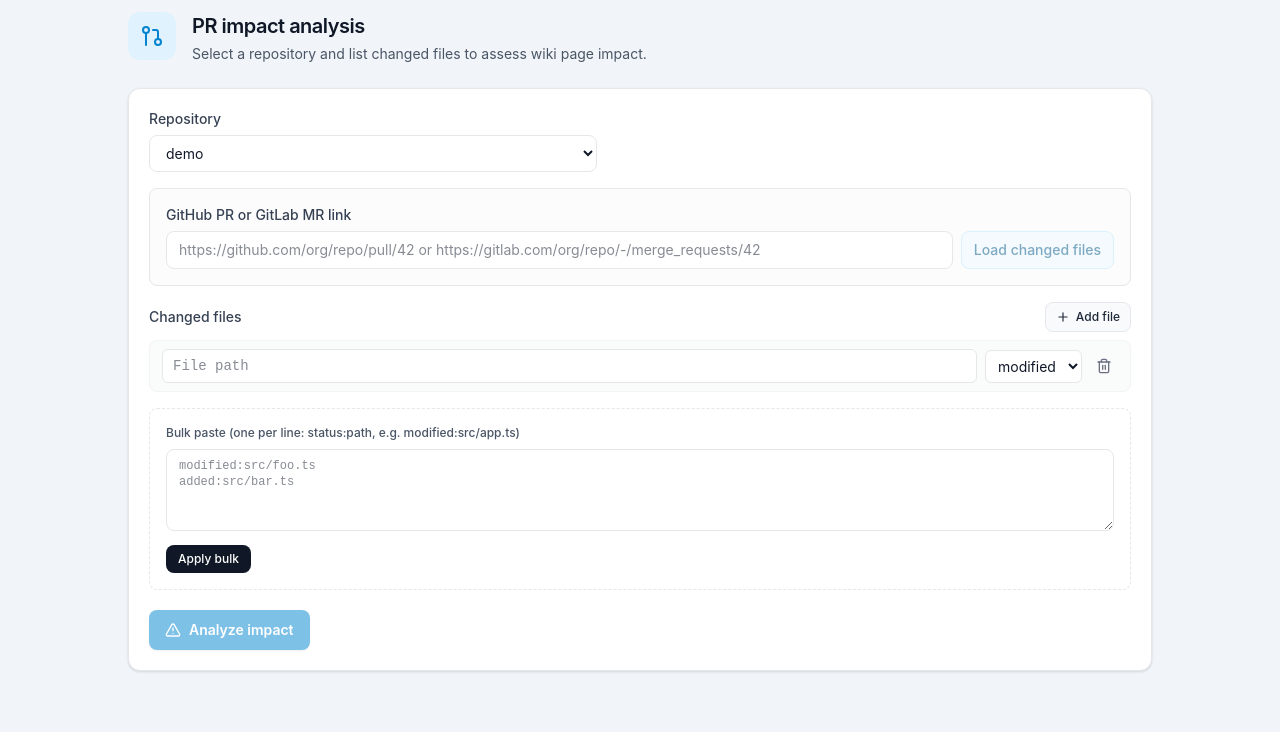
Test: PrImpactPage › adds a changed file row
Type "src/app.ts" into the field with placeholder "File path". click: (570, 366)
box: [162,349,977,383]
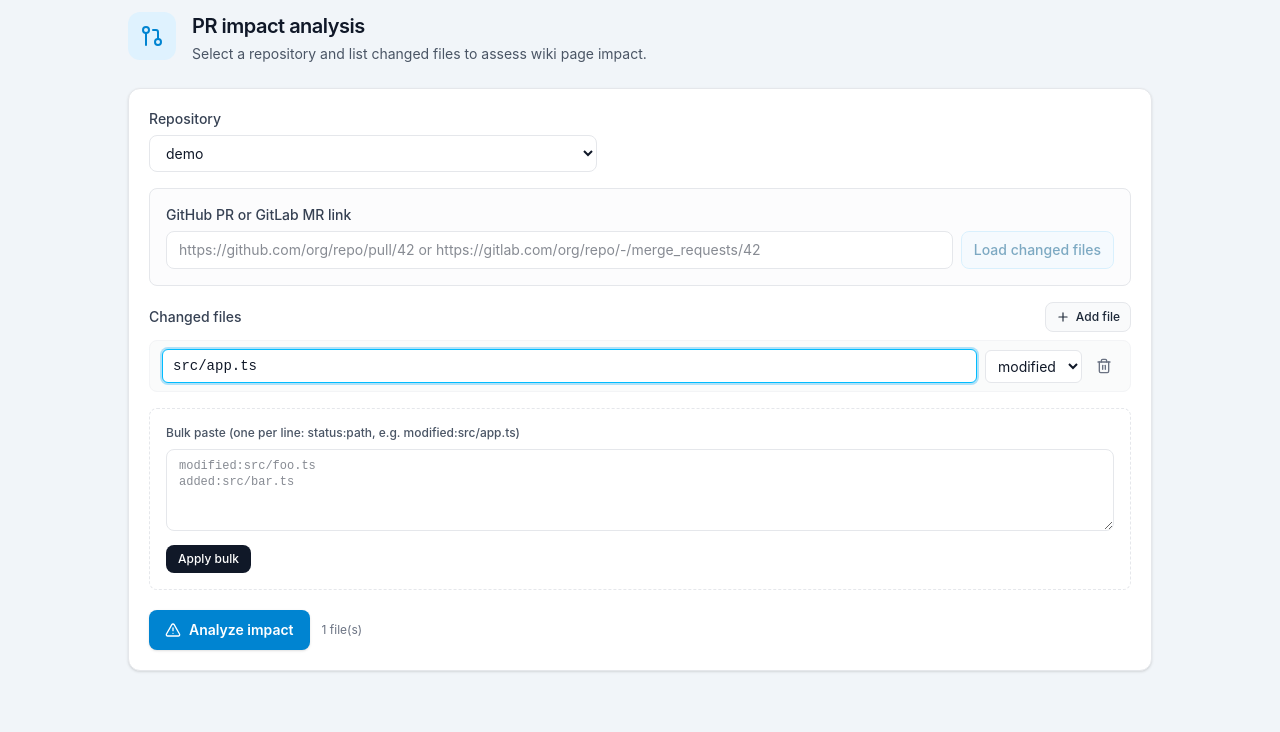
Click the button "Add file". click: (1088, 317)
box: [1045,302,1131,332]
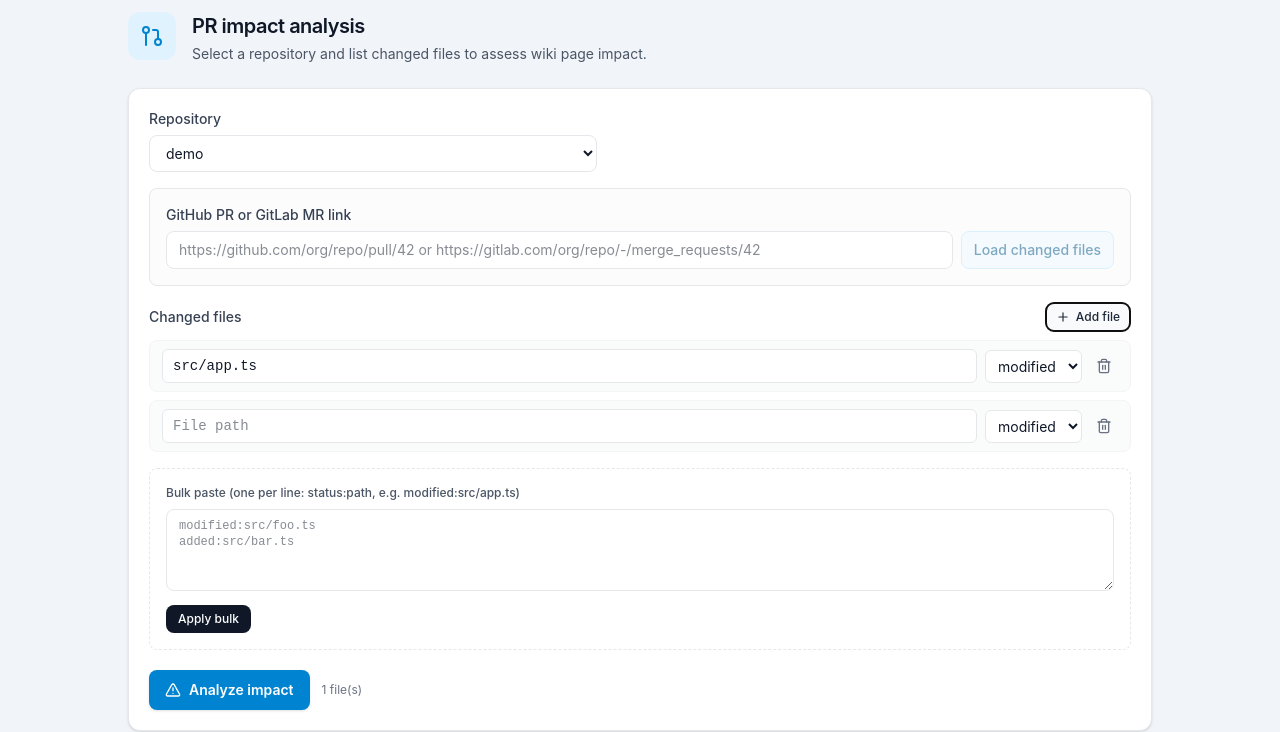
Check: the number of fields with placeholder "File path" is 2, box [162,349,977,383]; [162,409,977,443]
